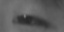RightEyeFatigue: (4, 6, 60, 32)
